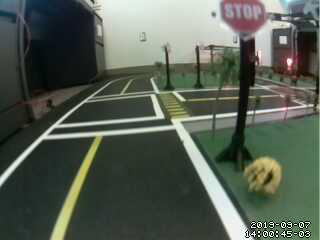Stop_Sign: (218, 4, 270, 42)
